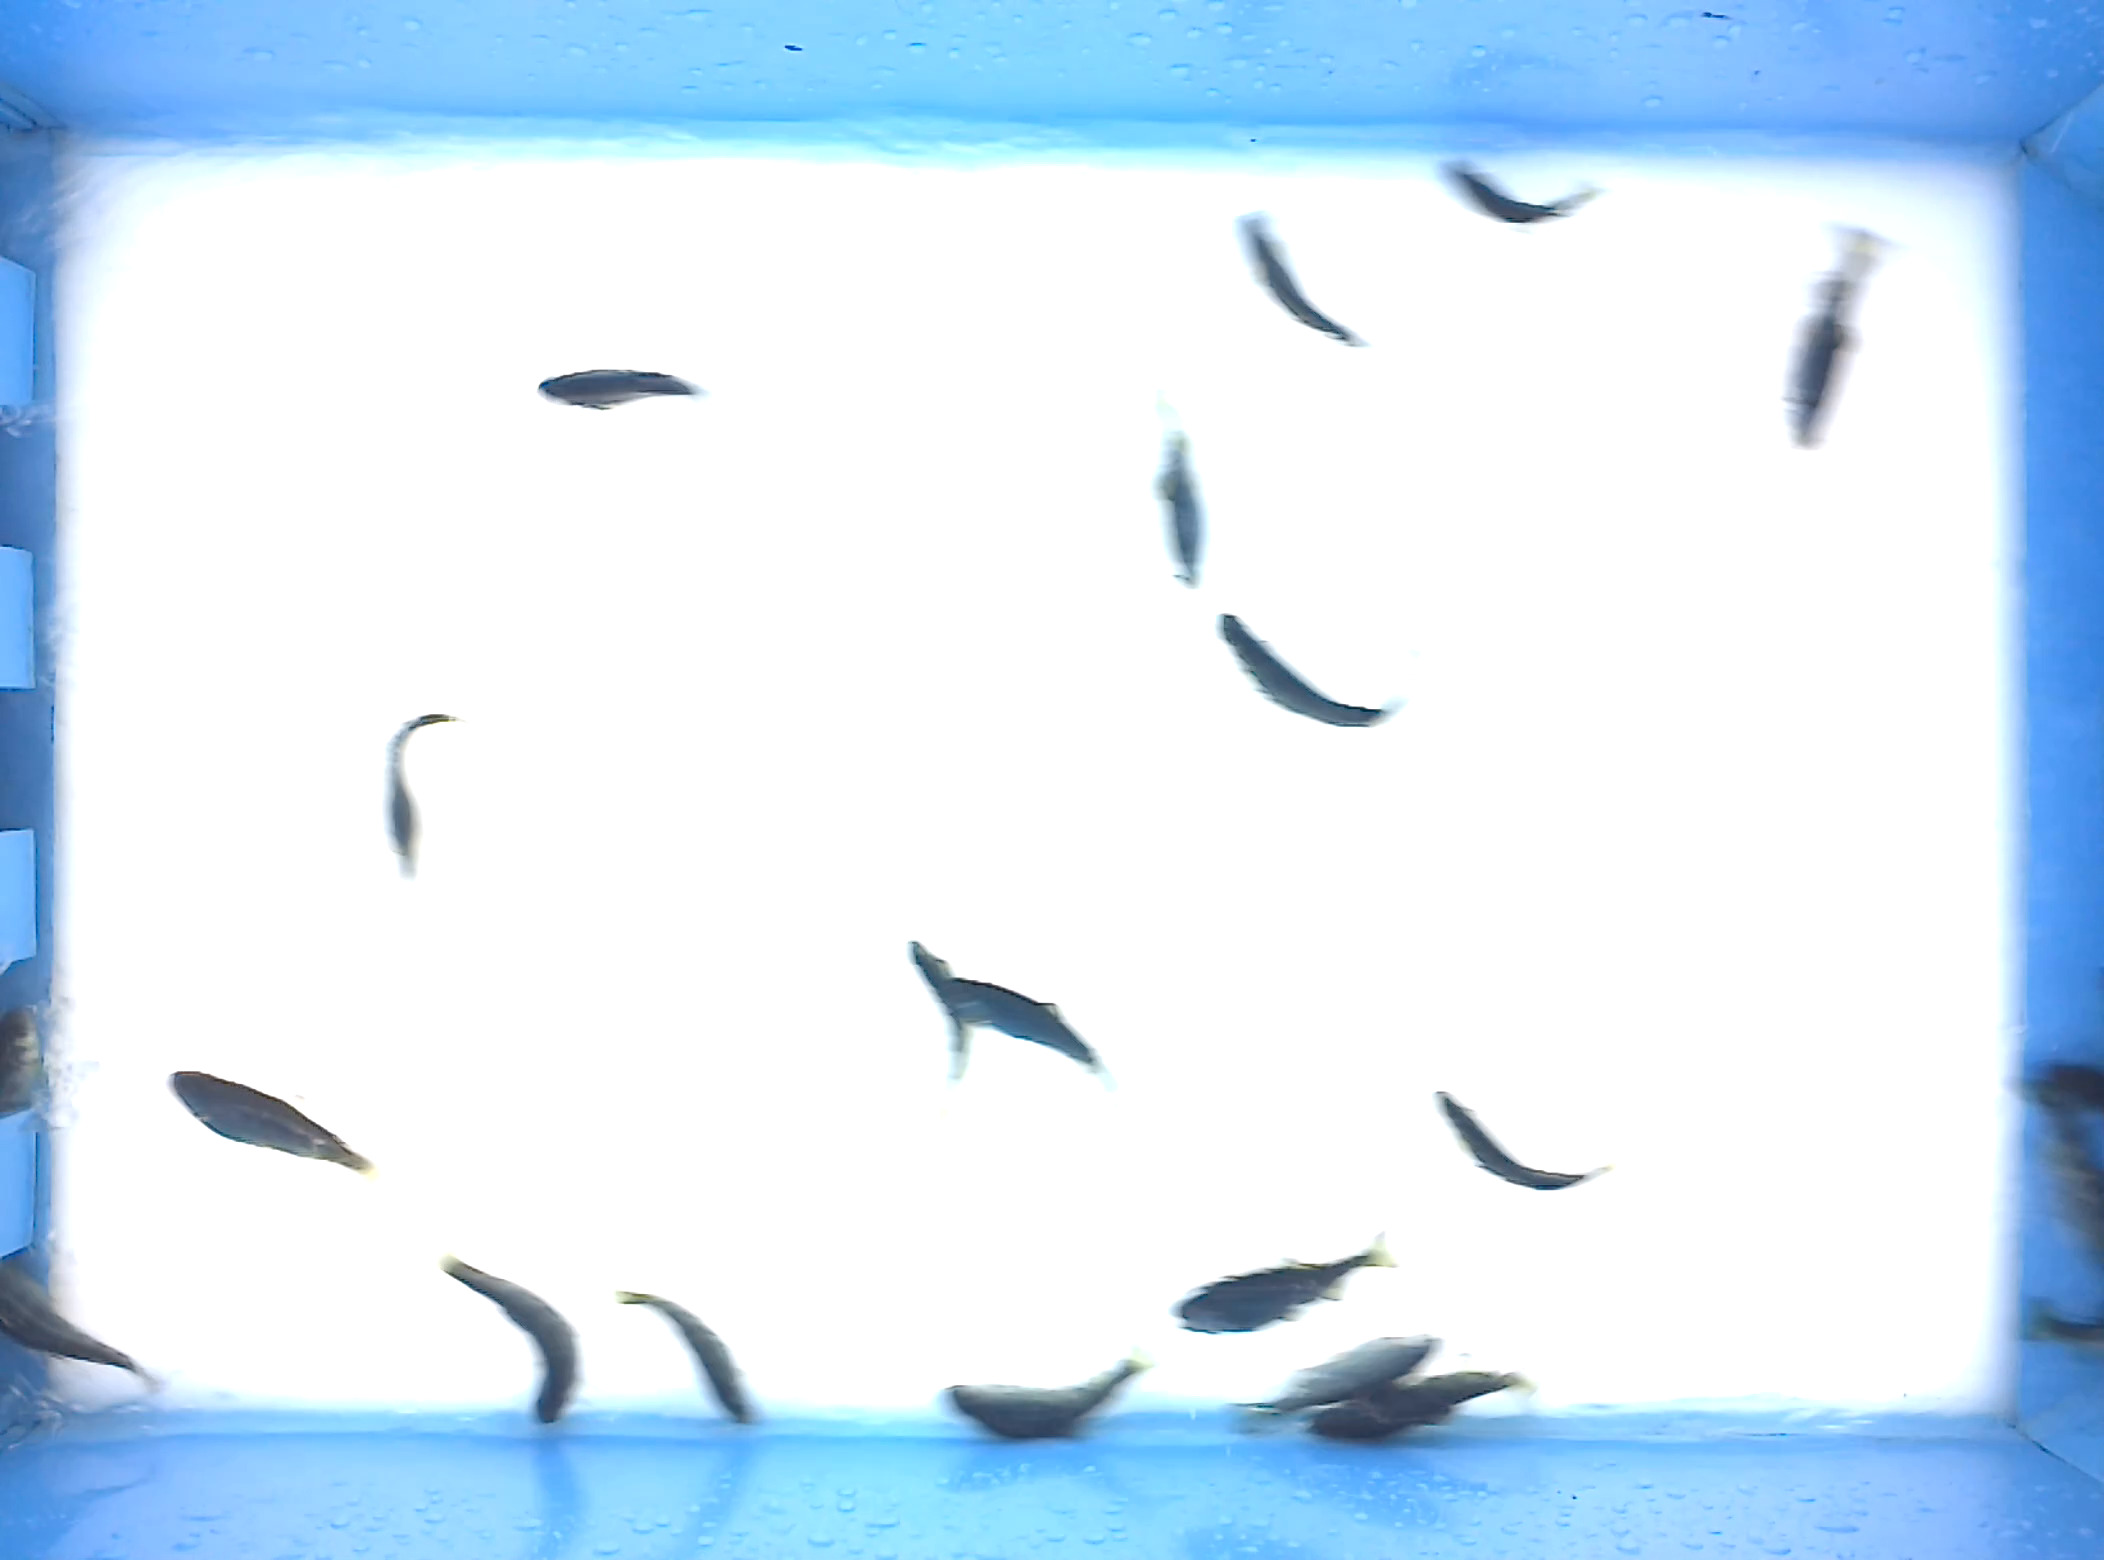fish: (1783, 215, 1904, 457), (431, 1252, 587, 1431), (1163, 1226, 1404, 1340), (159, 1063, 382, 1180), (1221, 1327, 1447, 1439), (1211, 610, 1411, 732), (610, 1290, 764, 1432), (1231, 205, 1372, 354), (936, 1350, 1154, 1445), (931, 973, 1118, 1078), (1427, 1090, 1614, 1193), (1304, 1363, 1539, 1444), (1140, 379, 1213, 593), (379, 711, 465, 883), (1421, 154, 1611, 228), (903, 932, 978, 1091), (533, 365, 714, 415)
